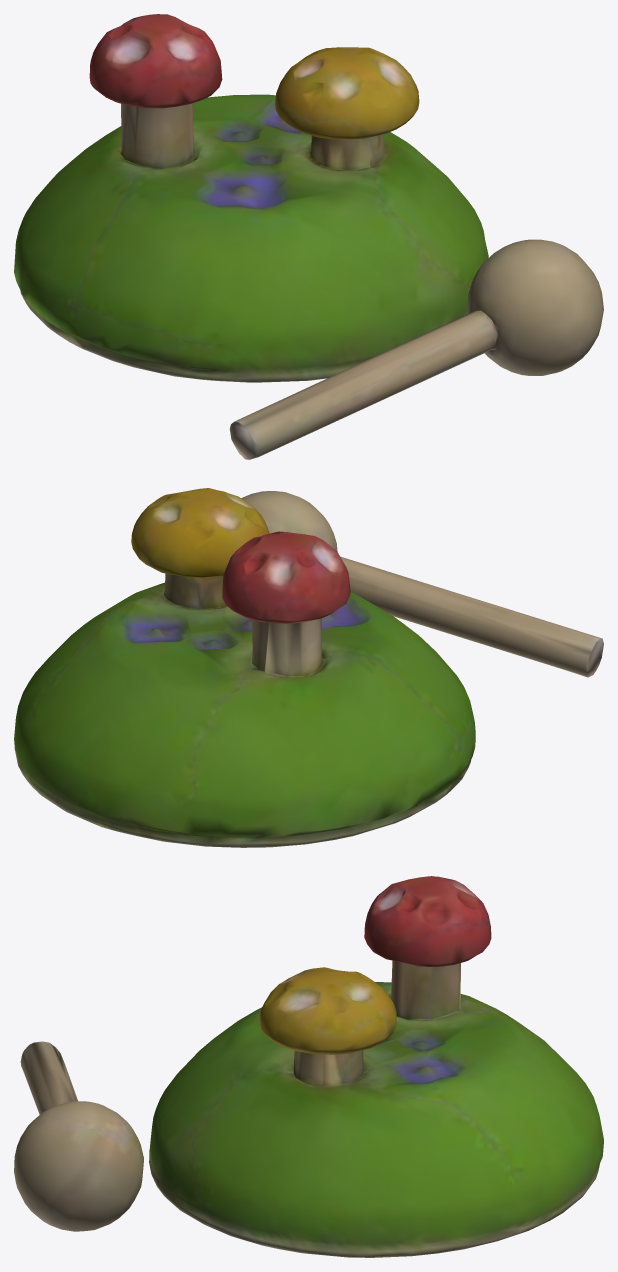
The model's file is POUNDING_MUSHROOMS-high.glb.
The picture shows the model from 3 angles, top to bottom: view 1: azimuth 30°, elevation 25°; view 2: azimuth 150°, elevation 25°; view 3: azimuth 270°, elevation 25°; orthographic projection. The views are drawn at different scales.
Visible parts, largest first — view 1: POUNDING_MUSHROOMS; view 2: POUNDING_MUSHROOMS; view 3: POUNDING_MUSHROOMS.
Boxes of the visible parts, x1=… form: POUNDING_MUSHROOMS: x1=14, y1=14, x2=603, y2=459; POUNDING_MUSHROOMS: x1=14, y1=488, x2=603, y2=847; POUNDING_MUSHROOMS: x1=14, y1=876, x2=603, y2=1257.
Size of the model in its own units: 0.1646 by 0.0991 by 0.2135.
1 material, 1 textured.
